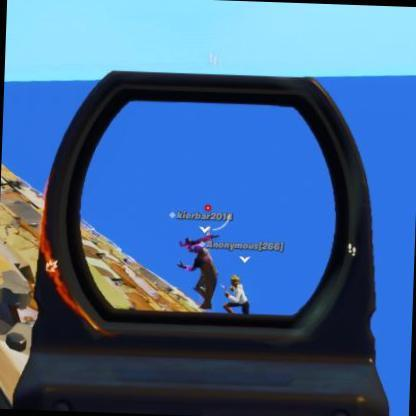person: (176, 242, 219, 310), (222, 274, 251, 315)
